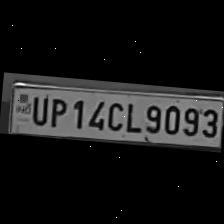0: (160, 100, 182, 134)
1: (66, 95, 86, 129)
3: (196, 104, 218, 139)
4: (84, 95, 106, 131)
9: (140, 99, 164, 134), (179, 103, 200, 137)
C: (102, 96, 125, 132)
L: (121, 98, 142, 132)
P: (44, 92, 70, 128)
U: (26, 91, 48, 126)
